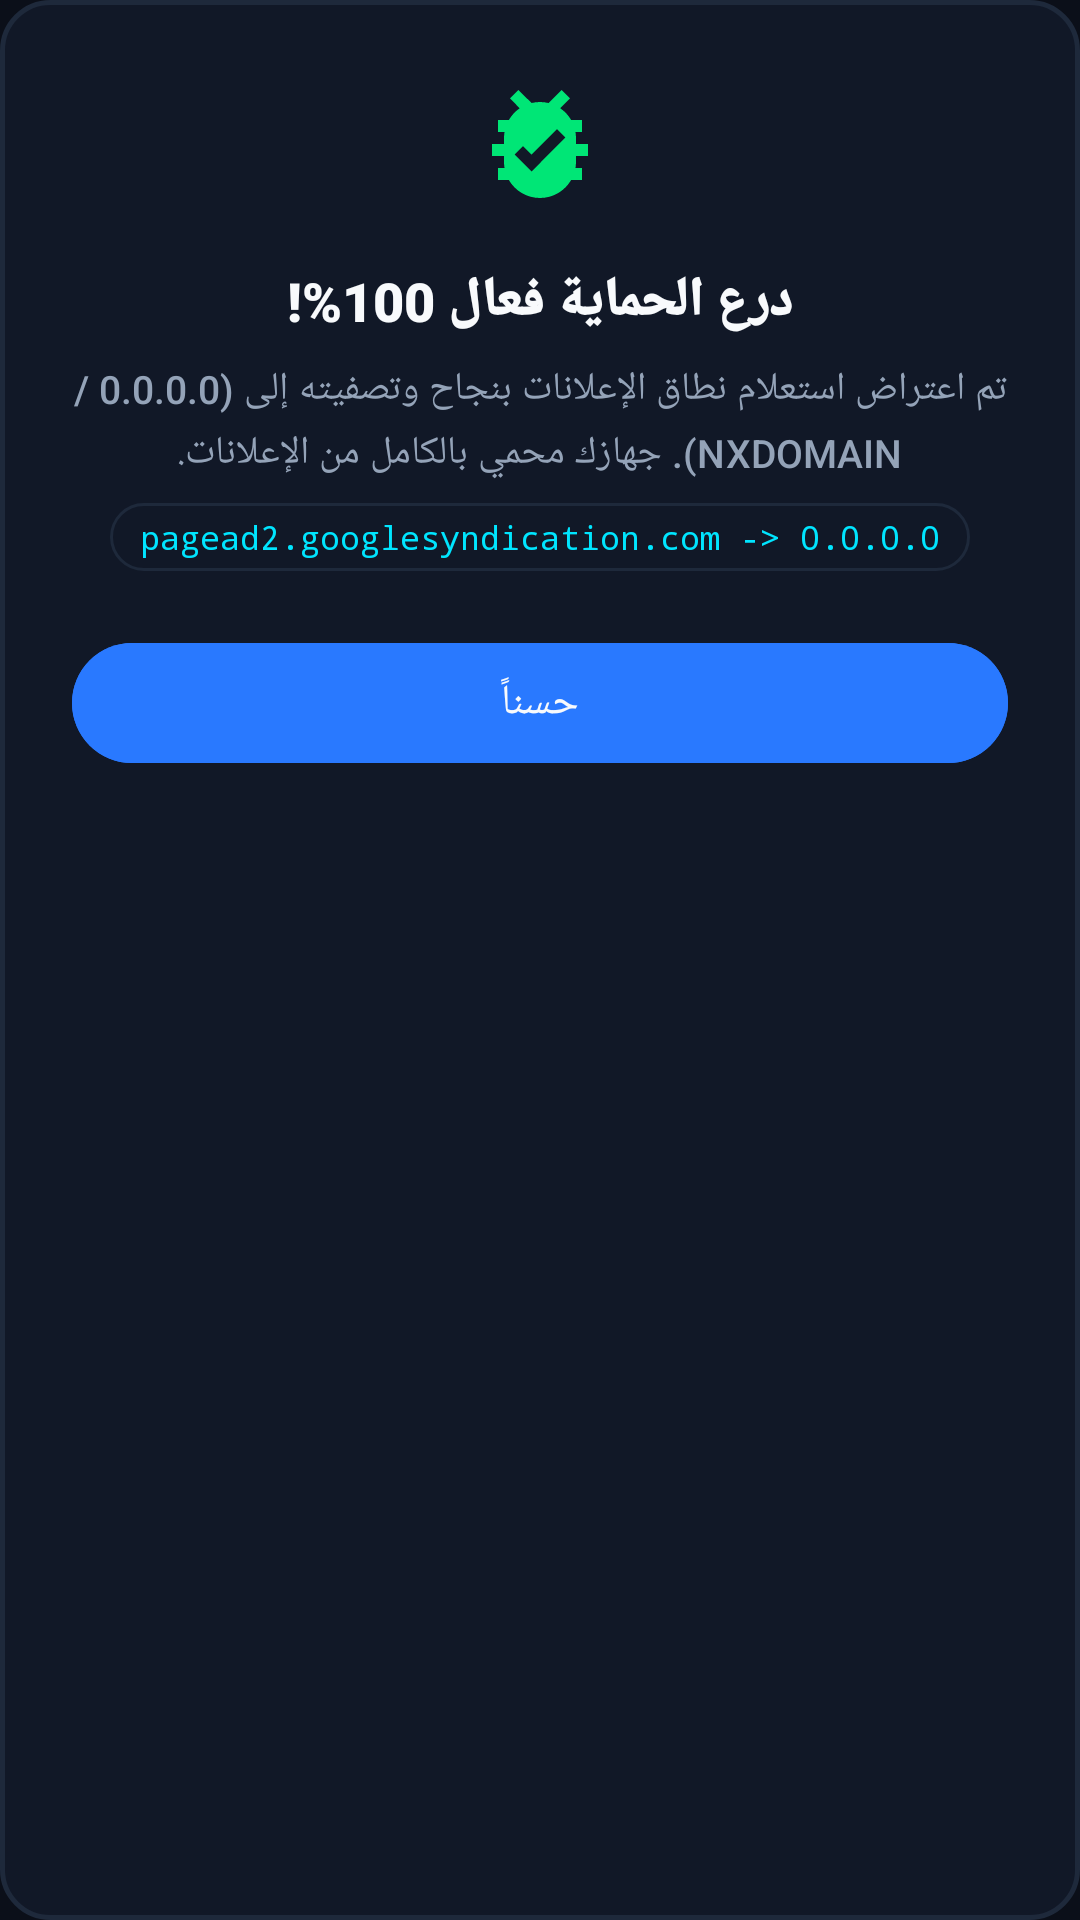

Where icons sit on this 1080 × 1920 app screen, as (x1, y1, x2, y2):
bug check: (492, 90, 588, 198)
